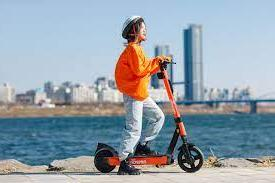helmet: (91, 14, 205, 176)
